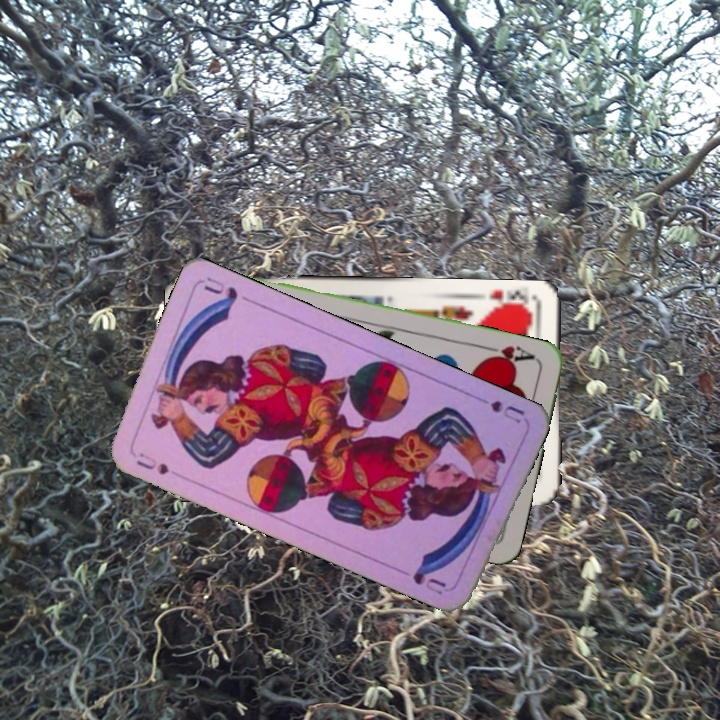HA: (480, 341, 539, 368)
HK: (482, 286, 538, 314)
SU: (469, 391, 527, 426), (128, 446, 172, 478)
